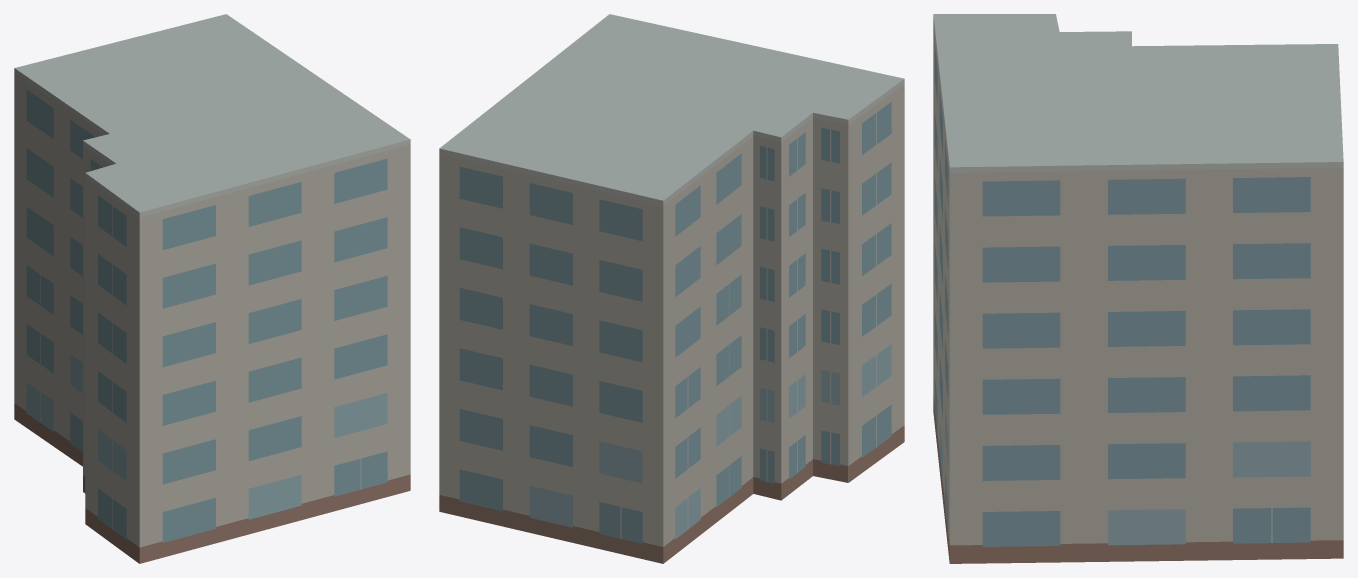
The model's file is survey-upis-32527470.glb.
3 renders of one model, left to right at view 1: azimuth 30°, elevation 25°; view 2: azimuth 150°, elevation 25°; view 3: azimuth 270°, elevation 25°, orthographic. The views are drawn at different scales.
Parts seen in each view (by area): view 1: survey-upis-32527470.tmp; view 2: survey-upis-32527470.tmp; view 3: survey-upis-32527470.tmp.
Part boxes in pixels (<box>): survey-upis-32527470.tmp: <box>14,14,410,563</box>; survey-upis-32527470.tmp: <box>439,14,904,563</box>; survey-upis-32527470.tmp: <box>933,14,1343,563</box>.
Bounding box in the file's own units: 14.02 × 16.9 × 15.85.
